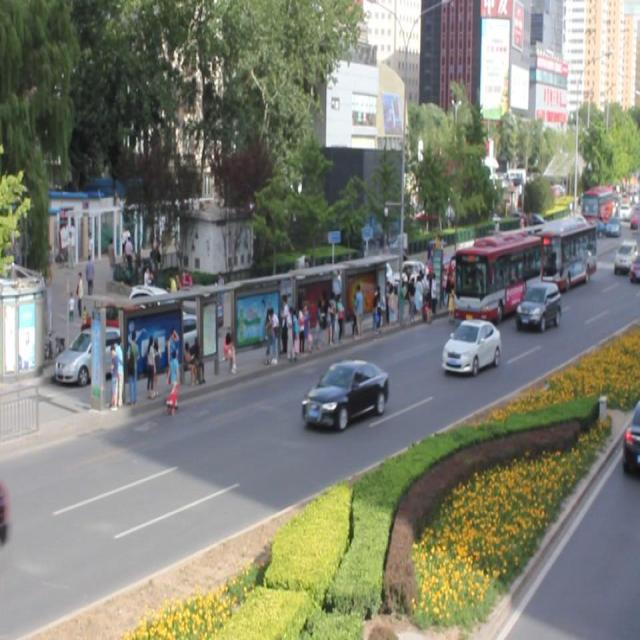car: (301, 357, 387, 430), (441, 315, 499, 375), (515, 281, 559, 328)
van: (447, 232, 538, 326), (532, 218, 597, 288)
